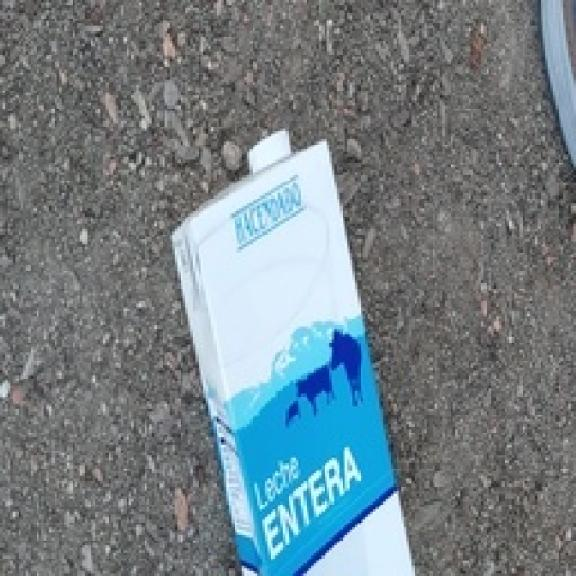Kertas: (173, 142, 414, 575)
